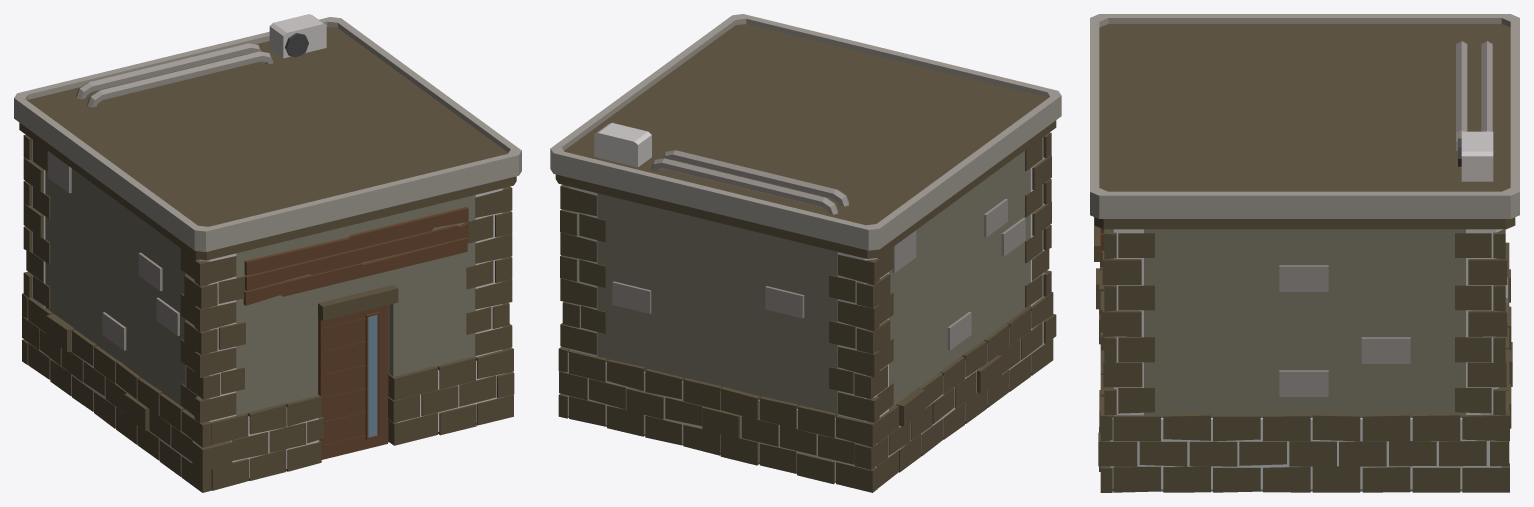
Rendered from 1Story Sign.glb.
The picture shows the model from 3 angles, left to right: view 1: azimuth 30°, elevation 25°; view 2: azimuth 150°, elevation 25°; view 3: azimuth 270°, elevation 25°; orthographic projection. The views are drawn at different scales.
Parts seen in each view (by area): view 1: 1Story_Sign; view 2: 1Story_Sign; view 3: 1Story_Sign.
Part boxes in pixels (x1,y1,x2,y2): 1Story_Sign: (14, 14, 521, 492); 1Story_Sign: (550, 14, 1061, 492); 1Story_Sign: (1090, 14, 1519, 492).
Bounding box in the file's own units: 5.17 × 4.31 × 5.17.
1 material, 1 textured.
